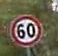limite 60: (9, 13, 43, 47)
